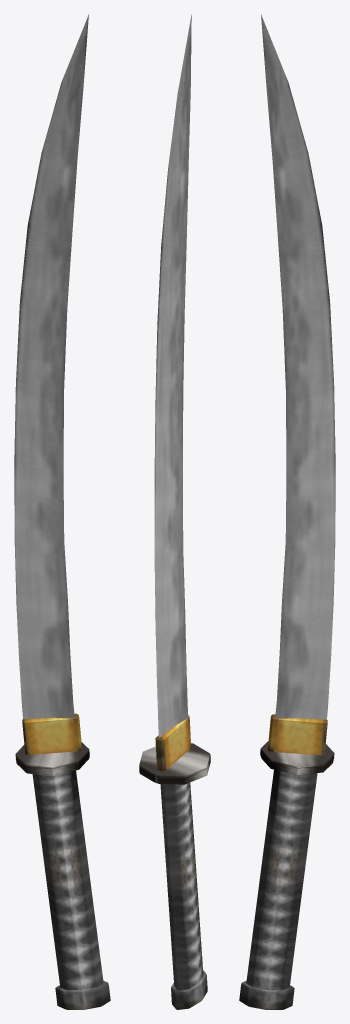
Rendered from Katana.fbx.
3 renders of one model, left to right at view 1: azimuth 90°, elevation 25°; view 2: azimuth 150°, elevation 25°; view 3: azimuth 270°, elevation 25°, orthographic.
Visible parts, largest first — view 1: Cylinder.027; view 2: Cylinder.027; view 3: Cylinder.027.
Boxes of the visible parts, <box> form: Cylinder.027: <box>14,14,110,1009</box>; Cylinder.027: <box>139,14,210,1009</box>; Cylinder.027: <box>239,14,335,1009</box>.
Bounding box in the file's own units: 10.39 × 153 × 13.48.
1 material, 1 textured.
